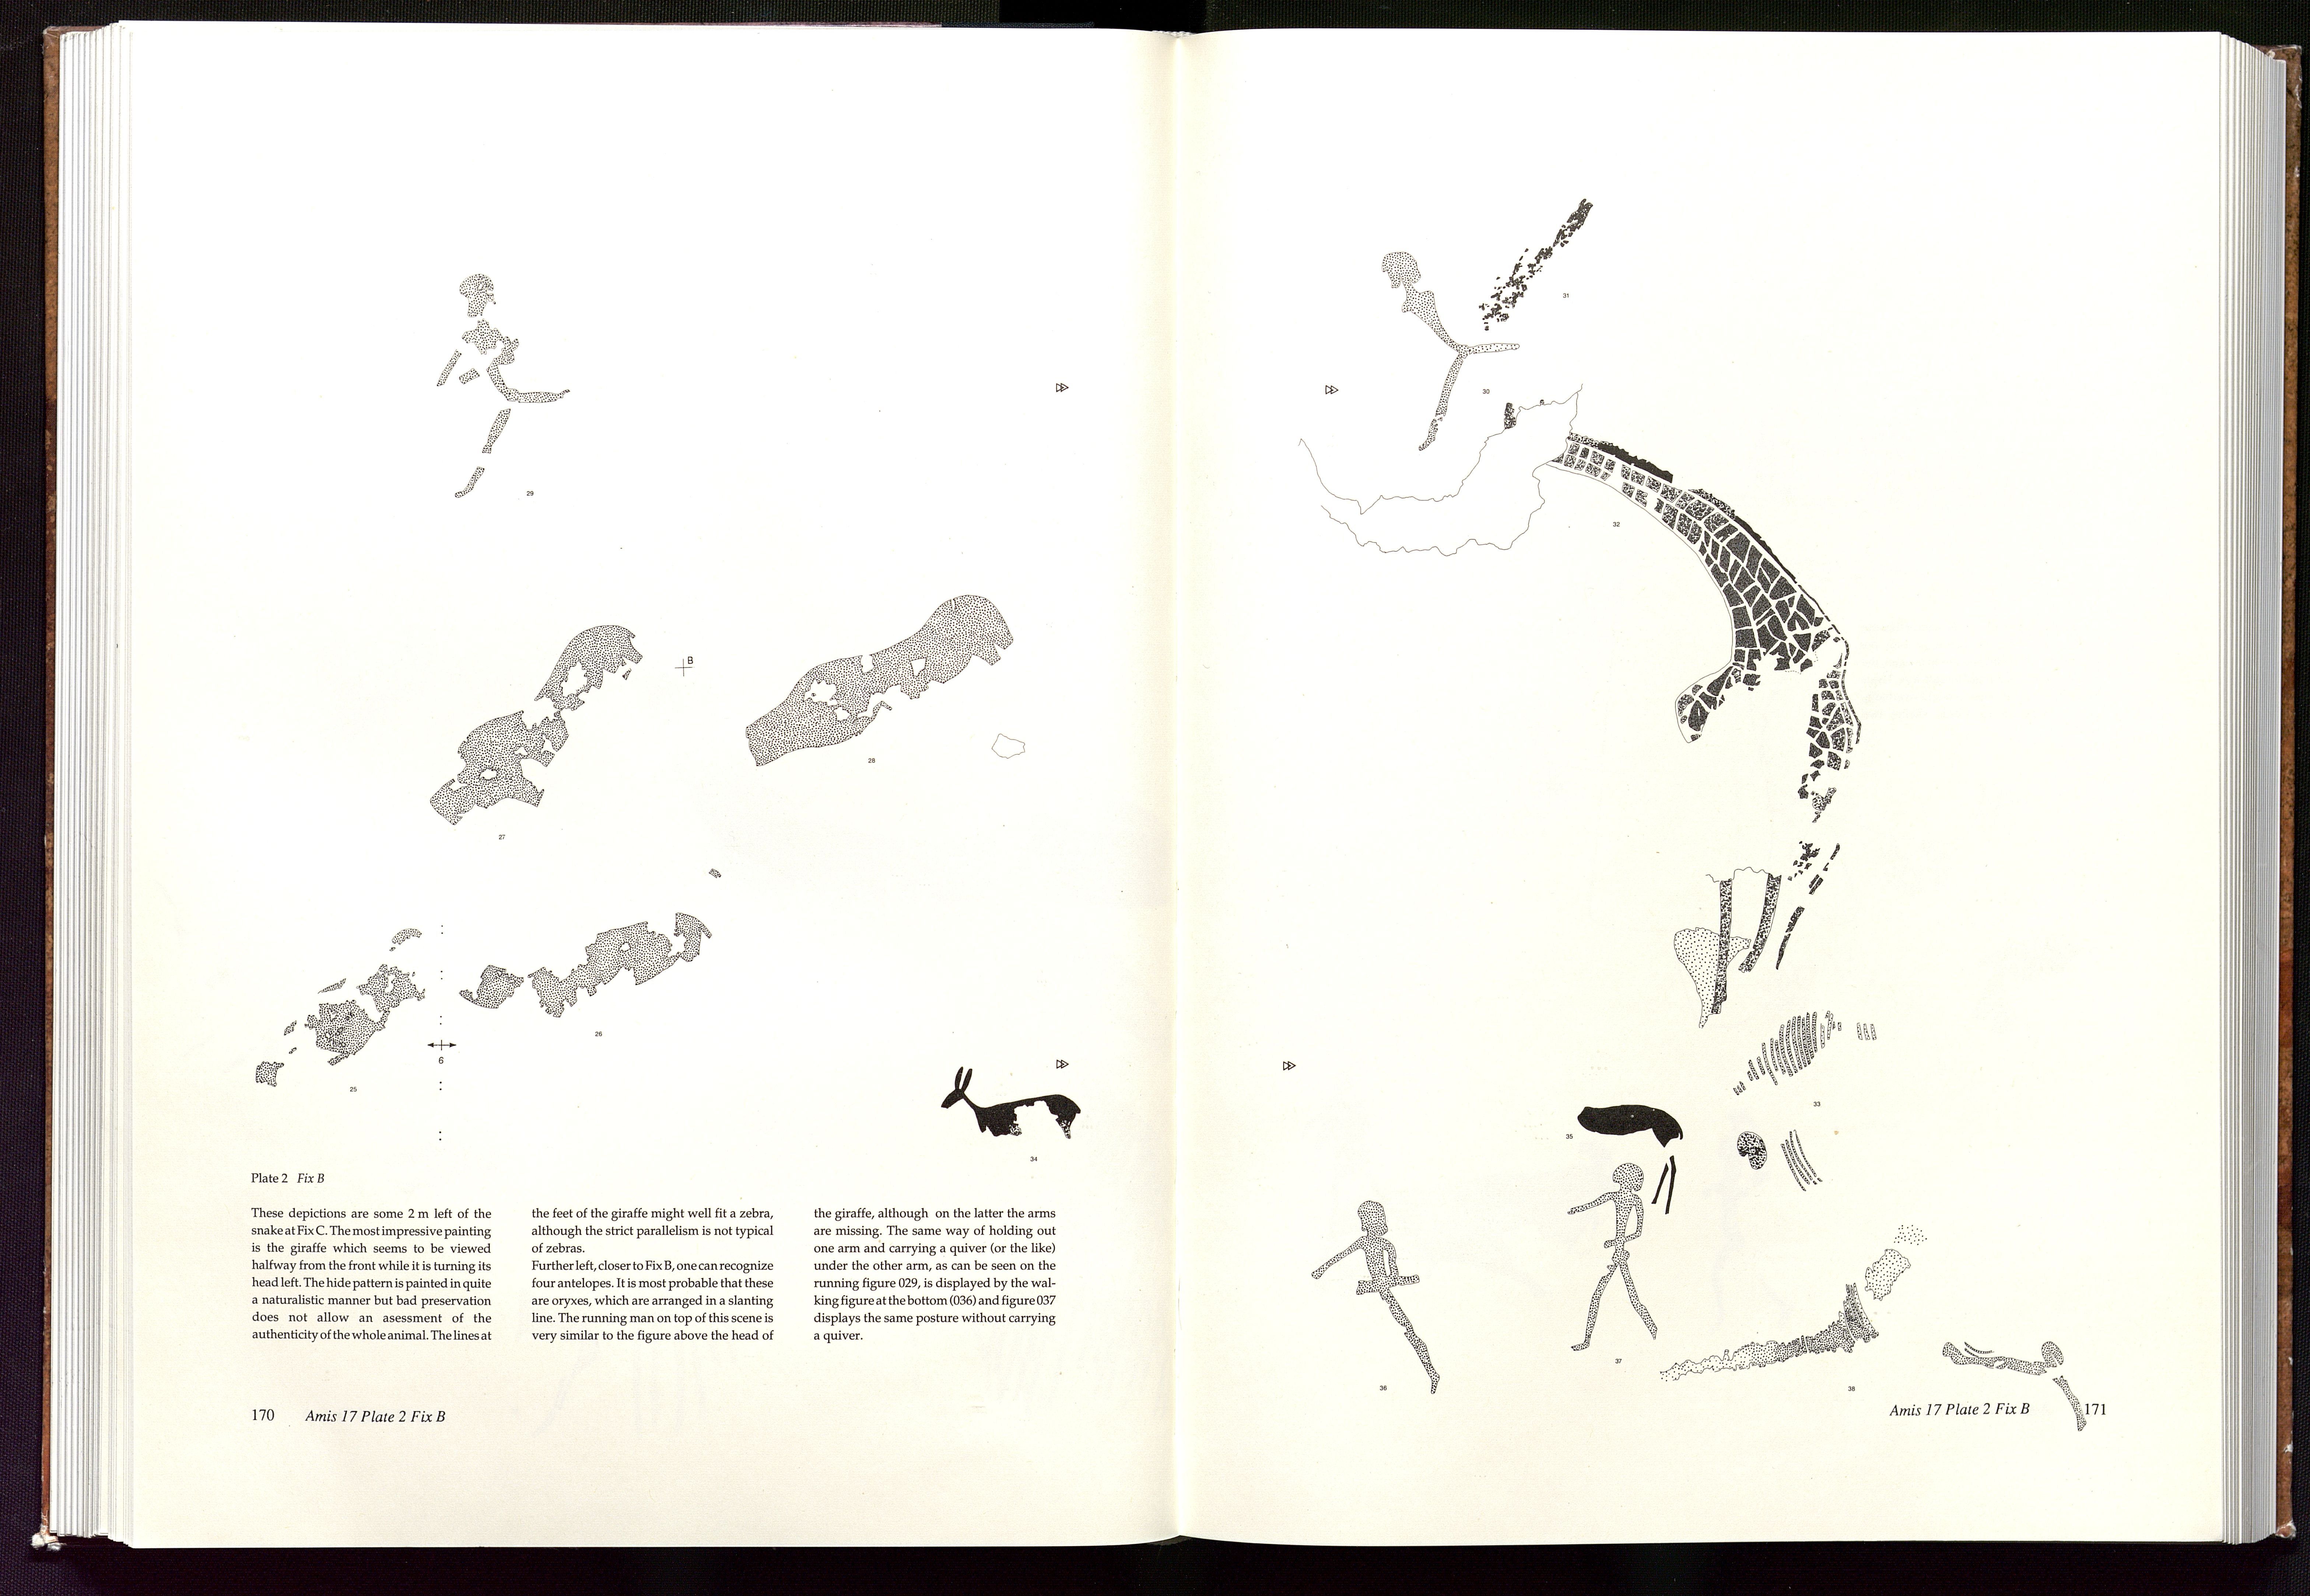animal: (1274, 168, 2118, 1447), (930, 1057, 1090, 1162)
human: (434, 256, 574, 517), (1301, 1192, 1458, 1413), (1559, 1148, 1669, 1366)
